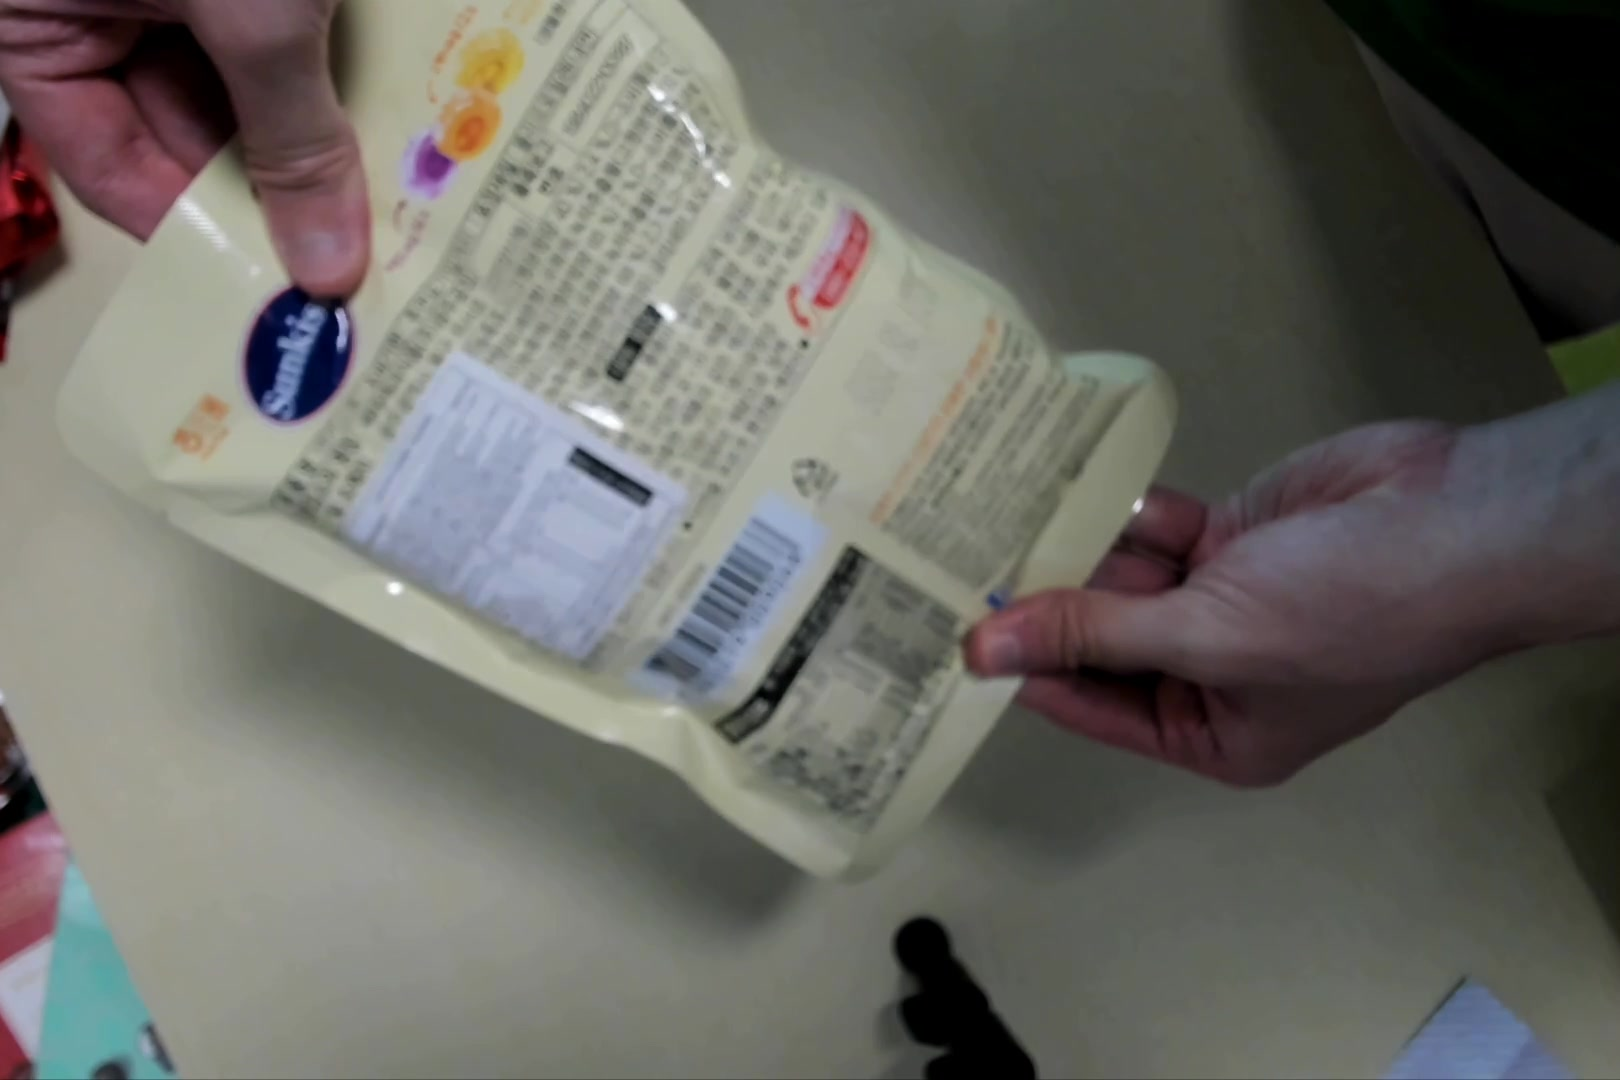SweetsChocolatesOthers_100-199g_NonHalal_NonHealthy: (61, 10, 1179, 875)
